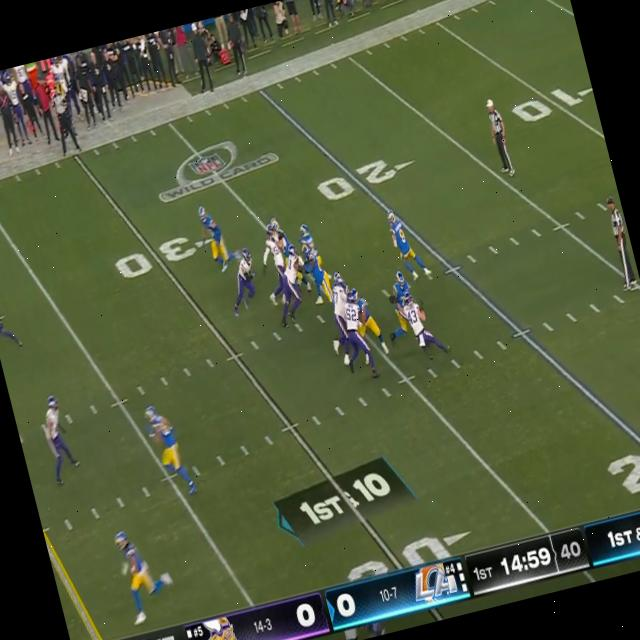Player: (111, 524, 167, 627), (142, 399, 194, 502), (38, 393, 82, 488), (383, 204, 428, 284), (274, 244, 314, 328), (339, 291, 374, 376), (402, 288, 441, 364), (326, 275, 362, 355), (259, 222, 293, 305), (197, 202, 233, 276), (300, 239, 336, 306), (228, 247, 262, 308), (385, 270, 414, 334), (352, 284, 381, 346)
Referee: (602, 194, 640, 292), (482, 94, 517, 181), (46, 83, 84, 155)
